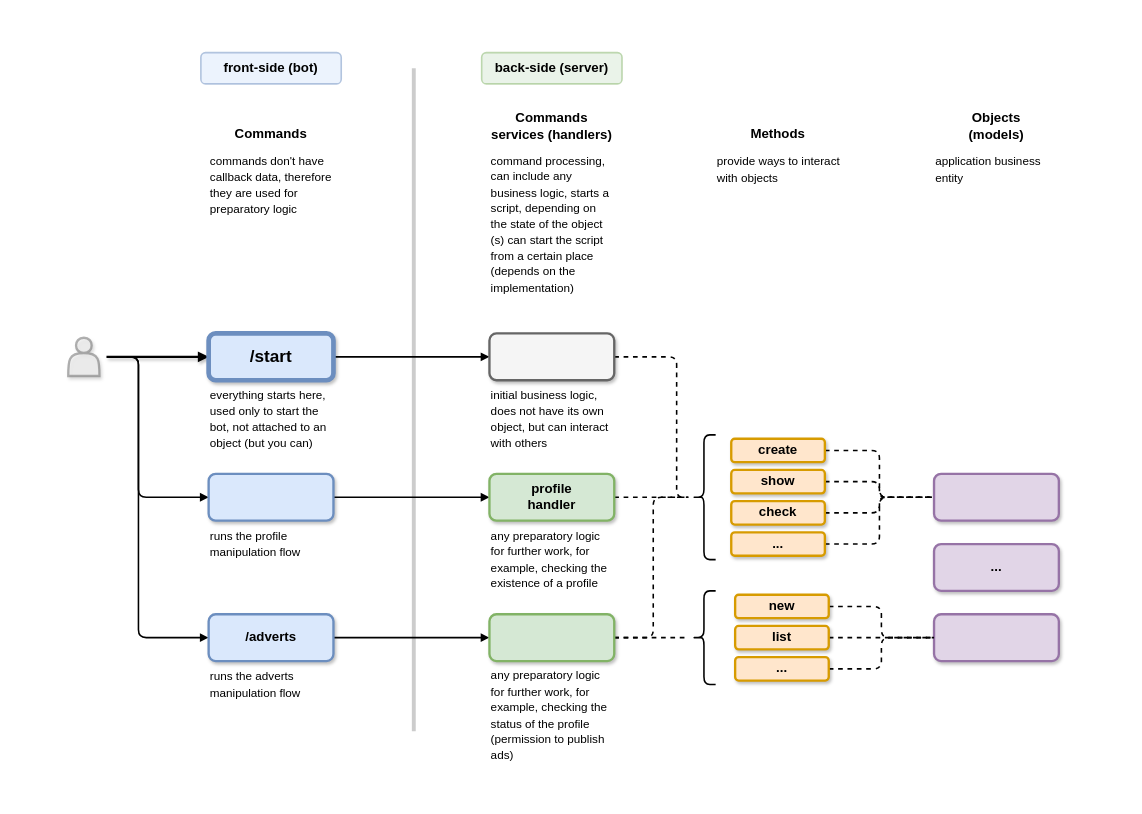
This 1142x814 diagram has some shape labels left out. Each missing label, with the centre of its shape:
/profile: the point at 271,498
adverts: the point at 996,638
adverts handler: the point at 552,638
profile: the point at 996,498
start handler: the point at 552,357
